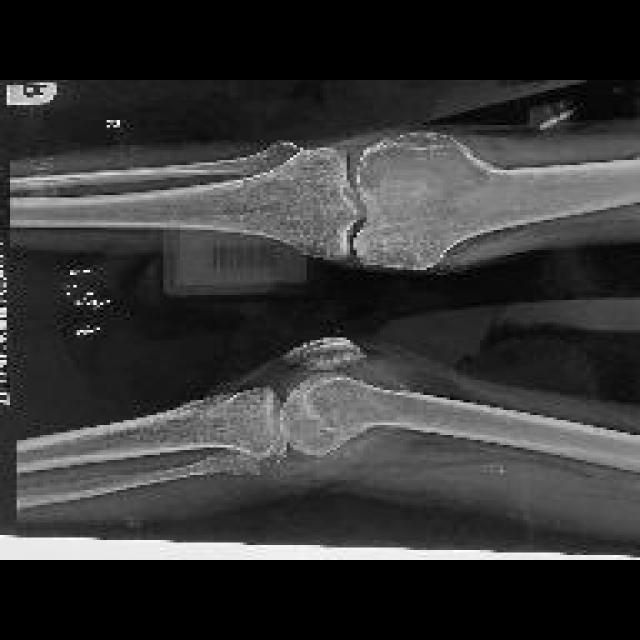bone-cancer: (357, 130, 497, 204)
